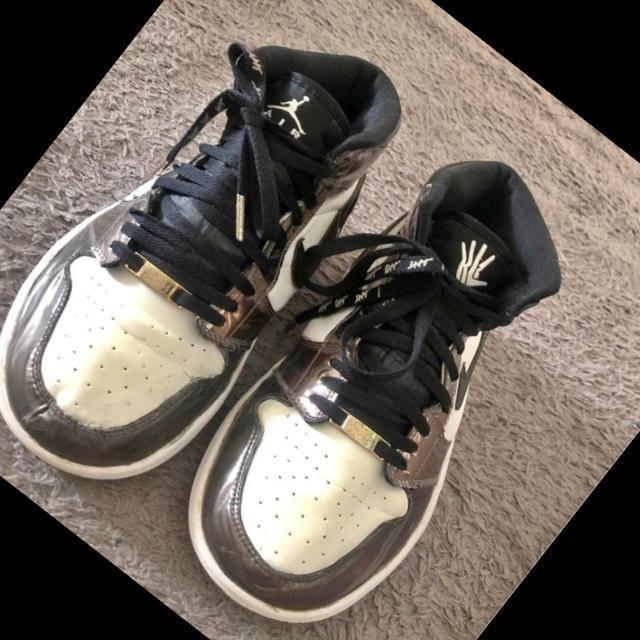nike fake jordan 1: (128, 111, 640, 640), (0, 0, 445, 528)
